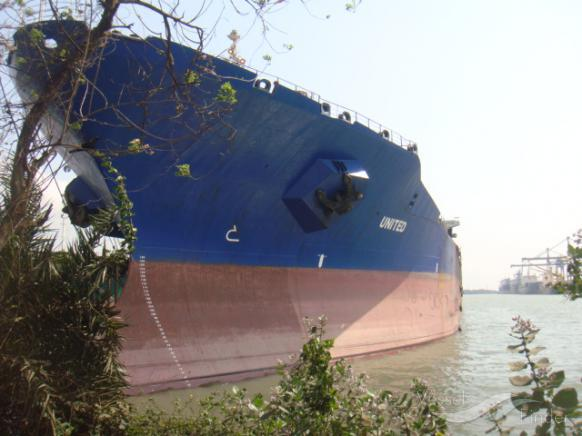OCR: (376, 210, 410, 235)
